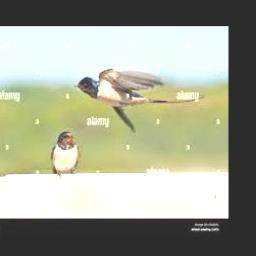Swallow: (76, 69, 205, 133), (51, 131, 80, 177)
